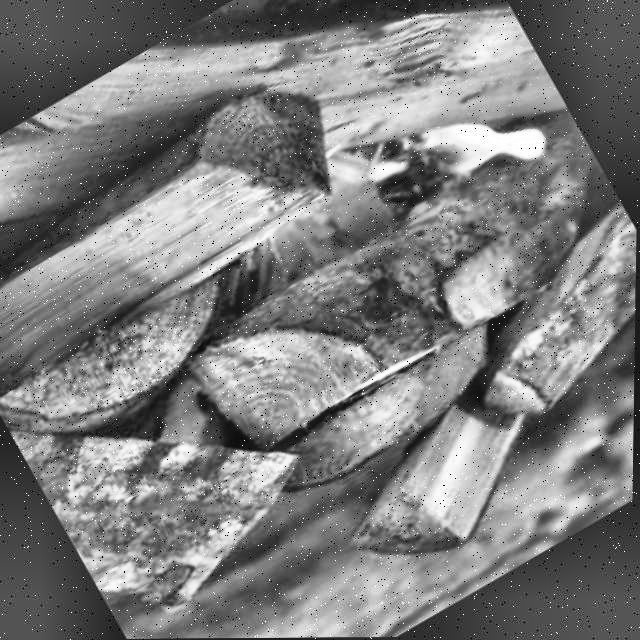Fire: (363, 49, 594, 250)
